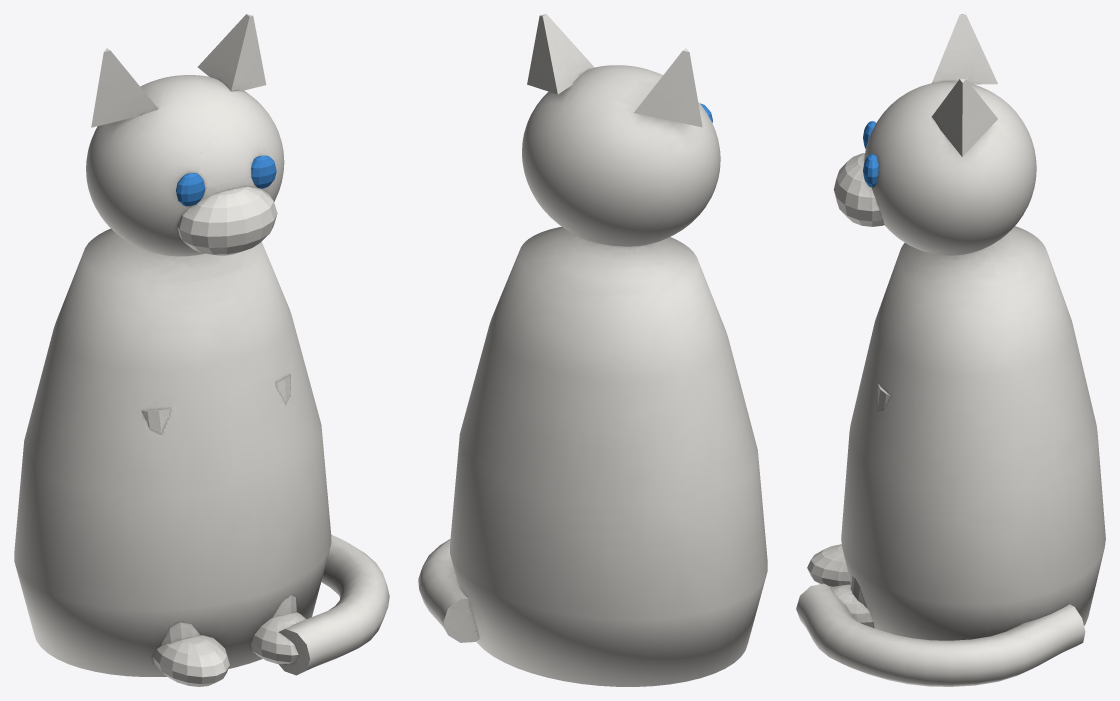
File: white-blue-eyes.glb
3 renders of one model, left to right at view 1: azimuth 30°, elevation 25°; view 2: azimuth 150°, elevation 25°; view 3: azimuth 270°, elevation 25°, orthographic. The views are drawn at different scales.
Visible parts, largest first — view 1: ceramic_primary, cat_eyes; view 2: ceramic_primary; view 3: ceramic_primary, cat_eyes.
Part boxes in pixels (box(x1,y1,x2,y2)): ceramic_primary: box(14, 14, 389, 686); cat_eyes: box(176, 155, 276, 206); ceramic_primary: box(418, 14, 767, 686); ceramic_primary: box(796, 14, 1105, 686); cat_eyes: box(863, 121, 878, 187).
Size of the model in its own units: 0.1832 by 0.3188 by 0.1591.
Materials: 2 (1 with a texture image).
